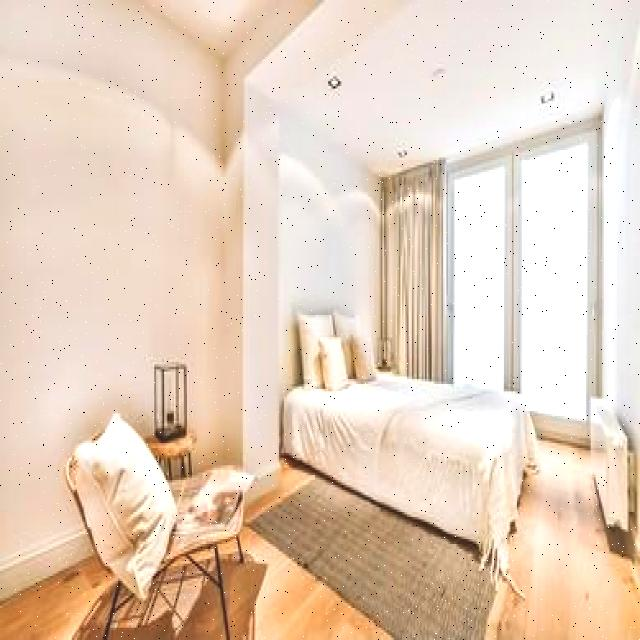bed: (280, 299, 531, 530)
